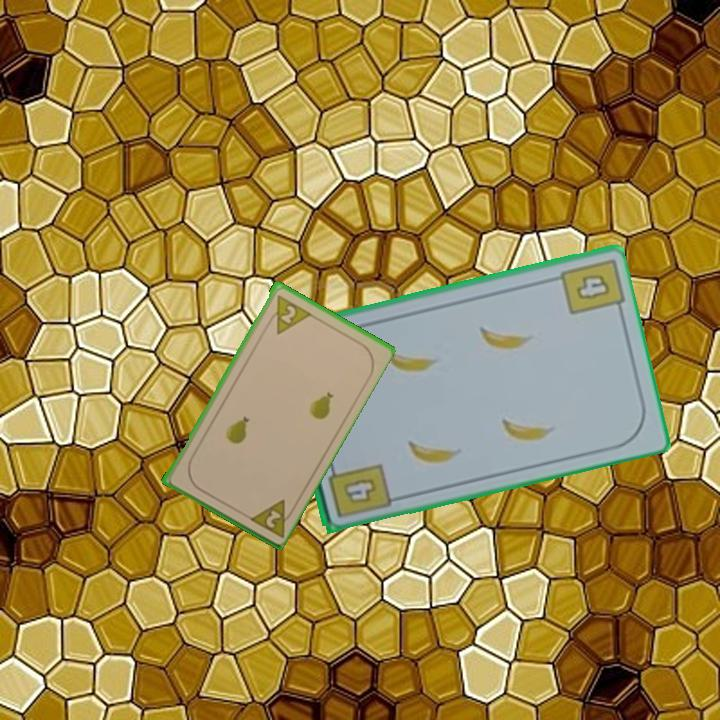2p: (244, 495, 298, 540), (263, 291, 313, 337)
4b: (324, 456, 393, 521), (573, 270, 614, 302)
